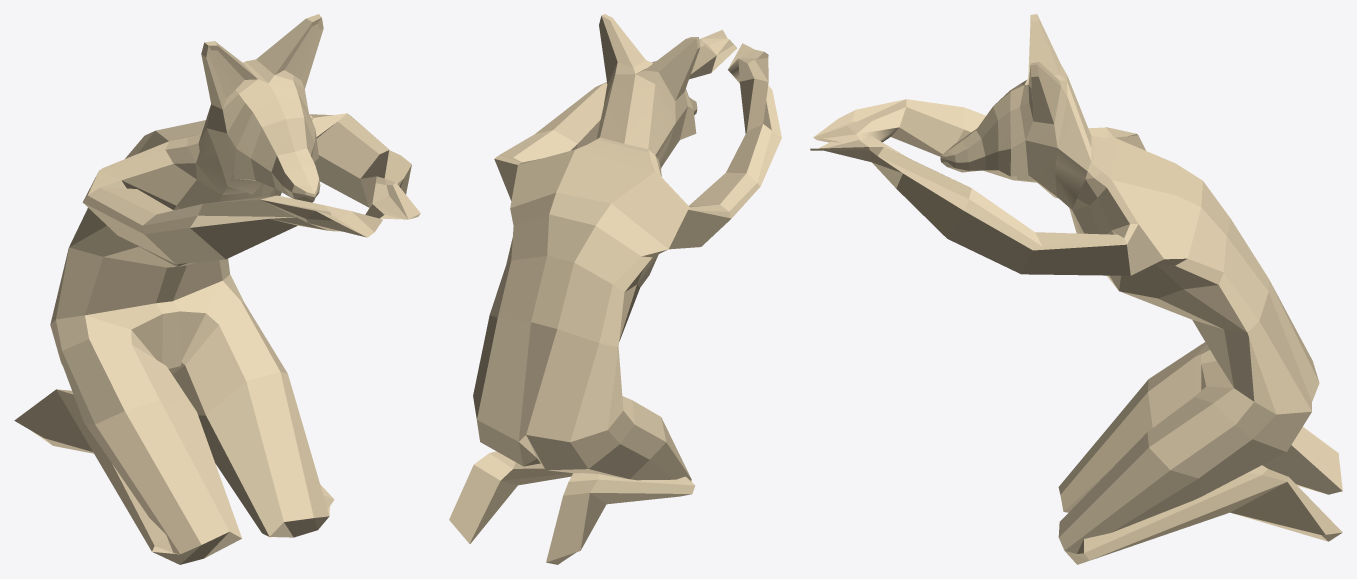
The model's file is Prey_Statue.fbx.
The picture shows the model from 3 angles, left to right: view 1: azimuth 30°, elevation 25°; view 2: azimuth 150°, elevation 25°; view 3: azimuth 270°, elevation 25°; orthographic projection. The views are drawn at different scales.
Parts seen in each view (by area): view 1: 01foxFinal2; view 2: 01foxFinal2; view 3: 01foxFinal2.
Boxes of the visible parts, box(x1,y1,x2,y2) form: 01foxFinal2: box(14, 14, 420, 564); 01foxFinal2: box(449, 14, 781, 564); 01foxFinal2: box(810, 14, 1342, 564).
Size of the model in its own units: 47.41 by 87.82 by 86.2.
